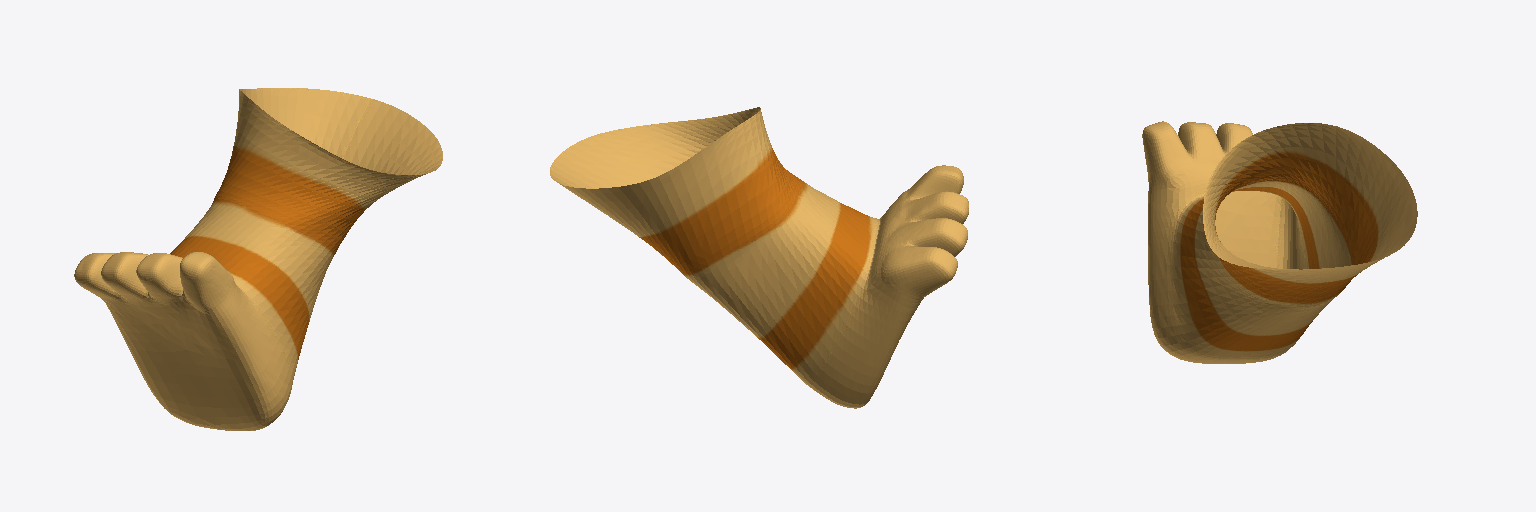
3 views of the same model, side by side, from view 1: azimuth 30°, elevation 25°; view 2: azimuth 150°, elevation 25°; view 3: azimuth 270°, elevation 25° (orthographic).
Visible parts, largest first — view 1: Group19; view 2: Group19; view 3: Group19.
Part boxes in pixels (left/top/right/bottom): Group19: left=74, top=88, right=442, bottom=430; Group19: left=550, top=107, right=968, bottom=408; Group19: left=1142, top=121, right=1417, bottom=363.
Size of the model in its own units: 19.29 by 14.08 by 12.59.
Materials: 1 (1 with a texture image).